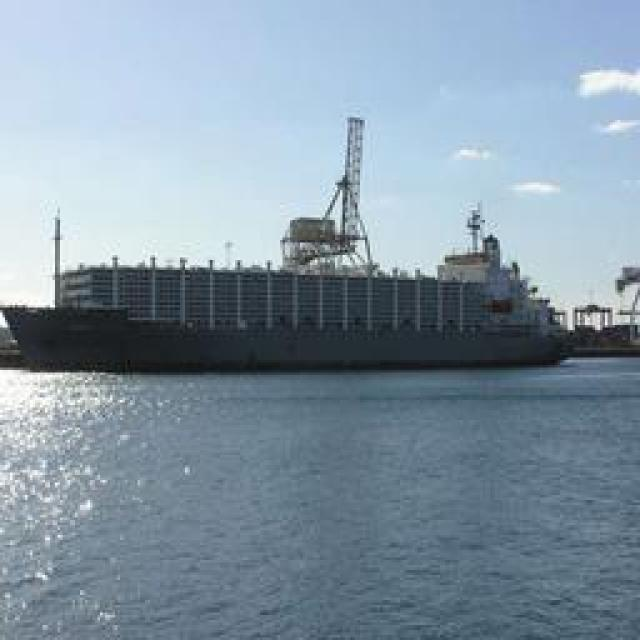CIV_Ship: (6, 142, 582, 376)
